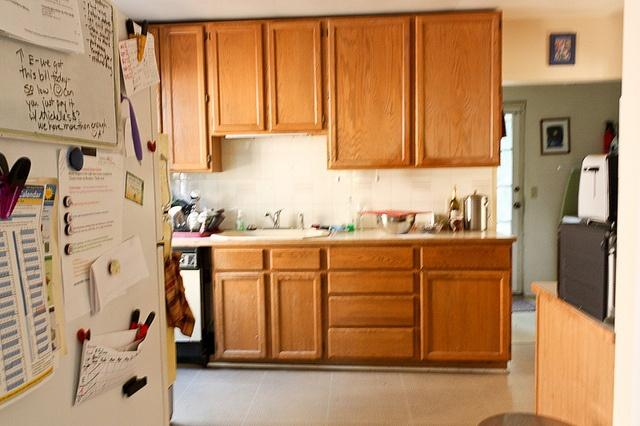Lemari: (324, 9, 502, 168), (206, 16, 327, 133), (148, 18, 213, 170)
